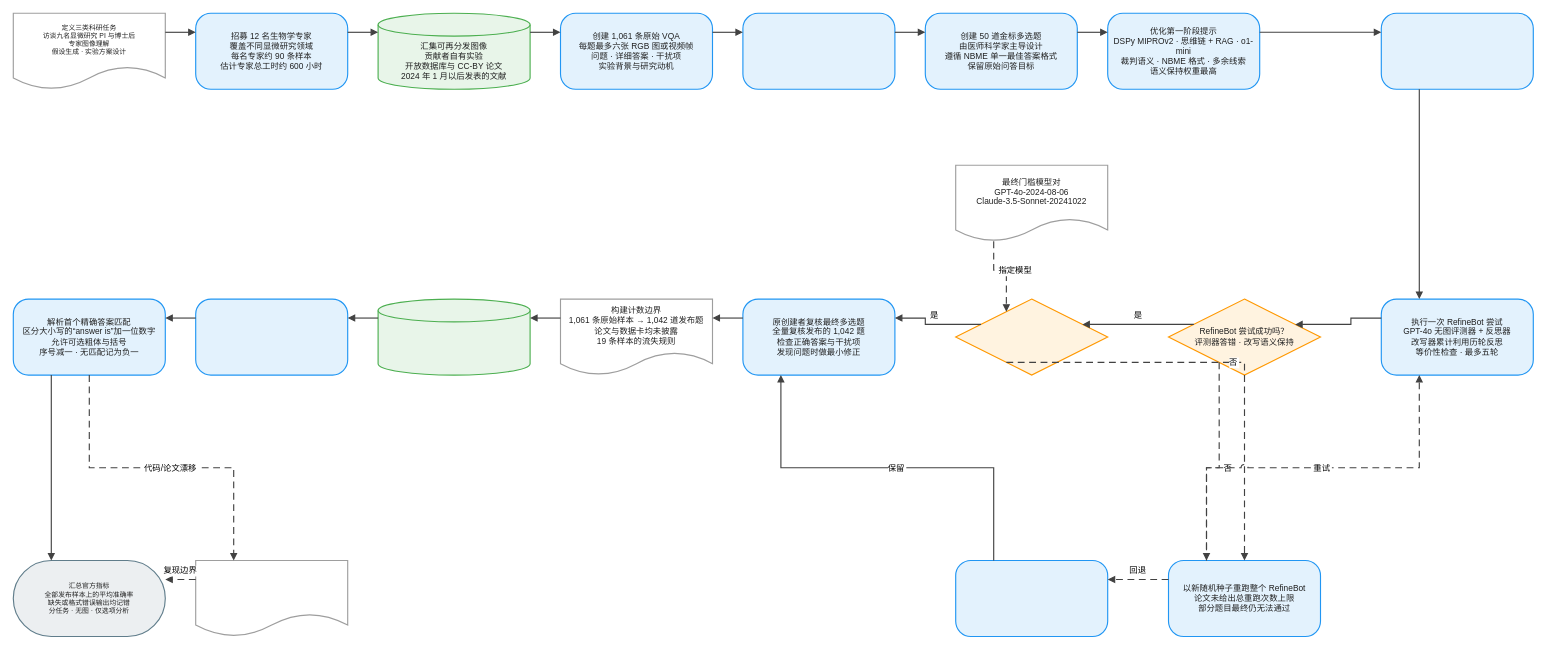
Image size: 1547x651. Some labels were removed from this diagram. The shapes that lost their labels are listed below. From the top down, each one's box as (x1, y1, x2, y2) in pixels, then its label:
(742, 12, 895, 90): 审核贡献者样本质量 研究难度 · 任务对齐 · 图像多样性 正文称第 10 与第 40 条后反馈 附录 E.1 称先审四至六条
(1380, 12, 1534, 90): 生成第一阶段考试式多选题 保留科学语义 形成单一最佳答案 添加可信且长度相近的干扰项
(195, 298, 348, 375): 构造论文评测提示 图像 + 问题 + 从一编号的选项 LLaVA 系列外采用 MMMU-Pro 思维链 要求输出“The answer is (X)”
(377, 298, 530, 375): 发布 MicroVQA 测试集 1,042 道多选题 · 423 道多图题 三类科学推理任务 数据采用 CC BY-SA 4.0
(955, 298, 1108, 375): 最终难度门槛通过吗？ 两个指定模型均失败 · 两种子
(195, 560, 348, 637): 固定评测器复现边界 论文给出 LLaVA 专用前缀与后缀 当前代码对所有模型使用同一提示 CLI 读 test · 批量辅助函数请求 train
(955, 560, 1108, 637): 保留第一阶段多选题 用于始终无法通过 RefineBot 的题目 不采用未成功的第二阶段改写
